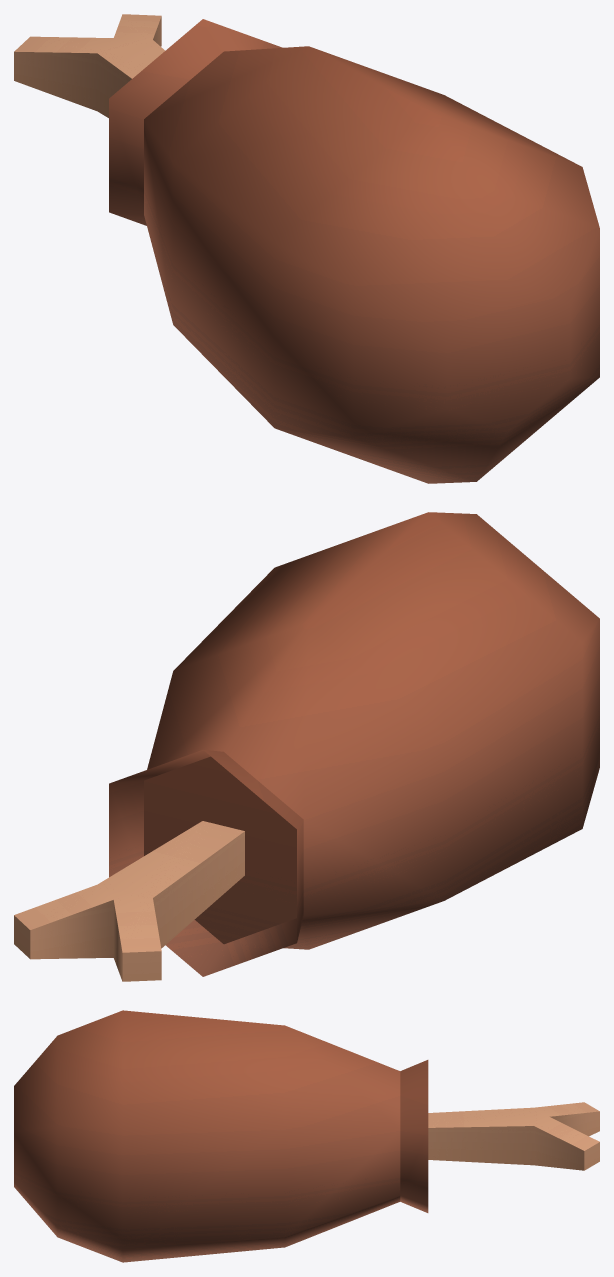
File: wholer-ham.glb
3 views of the same model, one above another, from view 1: azimuth 30°, elevation 25°; view 2: azimuth 150°, elevation 25°; view 3: azimuth 270°, elevation 25° (orthographic). The views are drawn at different scales.
Visible parts, largest first — view 1: wholer-ham; view 2: wholer-ham; view 3: wholer-ham.
Part boxes in pixels (x1=…): wholer-ham: x1=14, y1=14, x2=599, y2=483; wholer-ham: x1=14, y1=512, x2=599, y2=981; wholer-ham: x1=14, y1=1010, x2=599, y2=1262.
Size of the model in its own units: 0.3411 by 0.3938 by 0.8294.
Materials: 1 (1 with a texture image).
